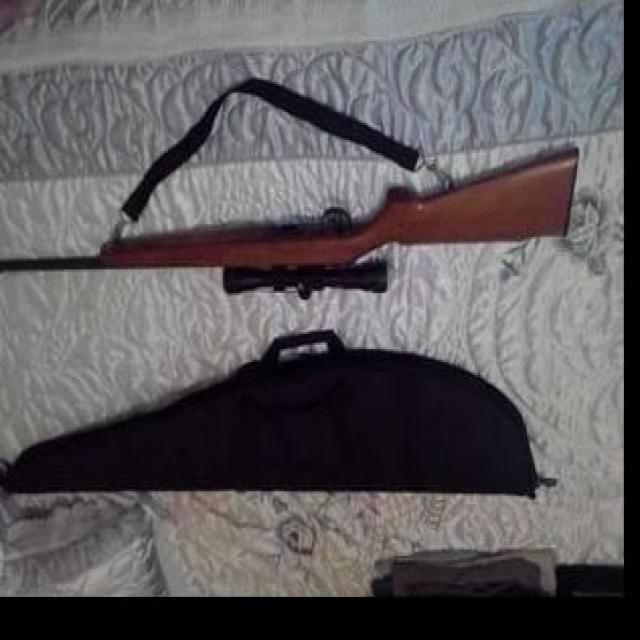weapon: (0, 144, 580, 302)
